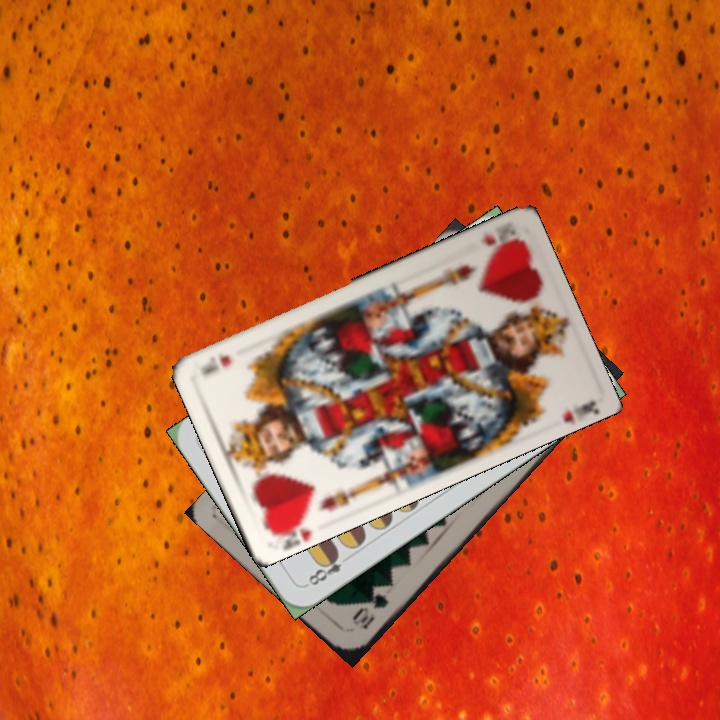E8: (301, 548, 354, 589)
G10: (348, 589, 391, 632)
HK: (267, 510, 315, 550), (477, 223, 518, 249)
